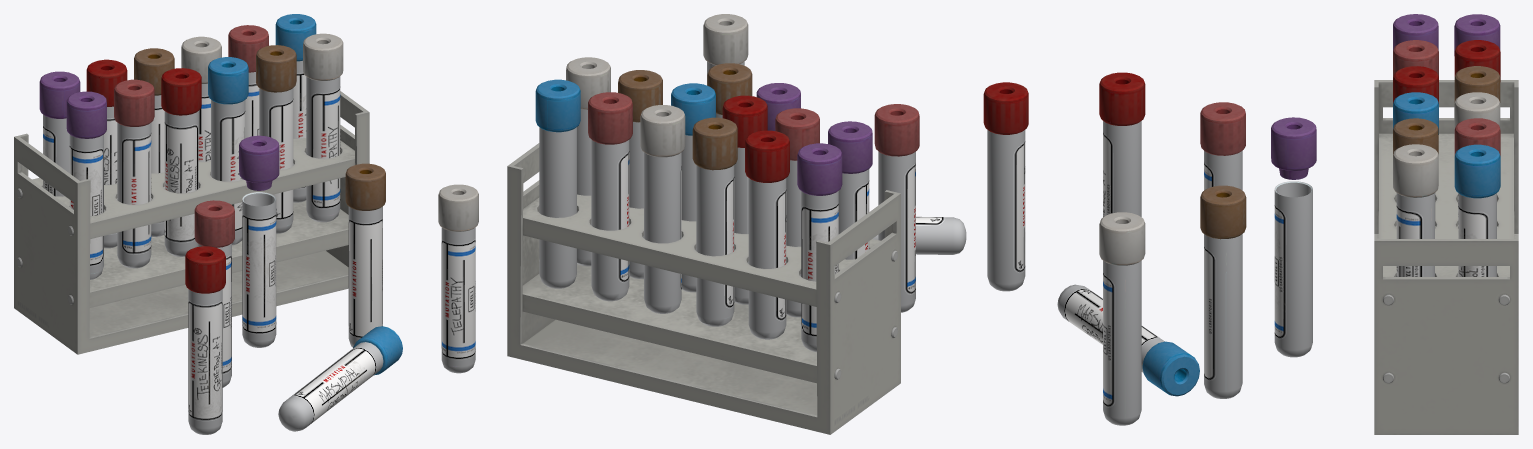
3 renders of one model, left to right at view 1: azimuth 30°, elevation 25°; view 2: azimuth 150°, elevation 25°; view 3: azimuth 270°, elevation 25°, orthographic. The views are drawn at different scales.
Visible parts, largest first — view 1: Rack_Rack_0, Phials_Racked_Phials_Named_0, Phials_Racked_Phials_Blank_0, Phial_Telepathy_Phials_Named_0, Phial_Telekinesis_Phials_Named_0, Phial_Blank_3_Phials_Blank_0, Phial_Blank_2_Phials_Blank_0, Phial_Marsupial_Phials_Named_0, Phial_Blank_1_Phials_Blank_0, Phial_Cap_Phials_Blank_0; view 2: Rack_Rack_0, Phials_Racked_Phials_Named_0, Phials_Racked_Phials_Blank_0, Phial_Telekinesis_Phials_Named_0, Phial_Blank_1_Phials_Blank_0, Phial_Telepathy_Phials_Named_0, Phial_Marsupial_Phials_Named_0, Phial_Blank_3_Phials_Blank_0, Phial_Cap_Phials_Blank_0; view 3: Rack_Rack_0, Phials_Racked_Phials_Named_0, Phial_Blank_3_Phials_Blank_0, Phial_Telepathy_Phials_Named_0, Phials_Racked_Phials_Blank_0, Phial_Blank_2_Phials_Blank_0, Phial_Telekinesis_Phials_Named_0, Phial_Marsupial_Phials_Named_0, Phial_Blank_1_Phials_Blank_0, Phial_Cap_Phials_Blank_0.
Boxes of the visible parts, x1,y1,x2,y2 form: Rack_Rack_0: [14, 91, 369, 354]; Phials_Racked_Phials_Named_0: [86, 14, 343, 256]; Phials_Racked_Phials_Blank_0: [39, 25, 296, 279]; Phial_Telepathy_Phials_Named_0: [438, 184, 478, 373]; Phial_Telekinesis_Phials_Named_0: [185, 246, 225, 434]; Phial_Blank_3_Phials_Blank_0: [345, 163, 385, 347]; Phial_Blank_2_Phials_Blank_0: [242, 192, 276, 347]; Phial_Marsupial_Phials_Named_0: [278, 326, 402, 431]; Phial_Blank_1_Phials_Blank_0: [194, 200, 234, 387]; Phial_Cap_Phials_Blank_0: [239, 135, 279, 190]; Rack_Rack_0: [507, 143, 900, 434]; Phials_Racked_Phials_Named_0: [535, 57, 789, 339]; Phials_Racked_Phials_Blank_0: [588, 70, 872, 352]; Phial_Telekinesis_Phials_Named_0: [983, 82, 1028, 291]; Phial_Blank_1_Phials_Blank_0: [874, 104, 919, 312]; Phial_Telepathy_Phials_Named_0: [703, 14, 748, 85]; Phial_Marsupial_Phials_Named_0: [873, 216, 966, 254]; Phial_Blank_3_Phials_Blank_0: [707, 63, 752, 118]; Phial_Cap_Phials_Blank_0: [756, 83, 800, 130]; Rack_Rack_0: [1374, 80, 1518, 434]; Phials_Racked_Phials_Named_0: [1393, 40, 1500, 276]; Phial_Blank_3_Phials_Blank_0: [1200, 185, 1246, 398]; Phial_Telepathy_Phials_Named_0: [1099, 212, 1145, 425]; Phials_Racked_Phials_Blank_0: [1393, 14, 1500, 155]; Phial_Blank_2_Phials_Blank_0: [1274, 181, 1312, 357]; Phial_Telekinesis_Phials_Named_0: [1099, 72, 1145, 216]; Phial_Marsupial_Phials_Named_0: [1057, 284, 1199, 396]; Phial_Blank_1_Phials_Blank_0: [1200, 102, 1245, 190]; Phial_Cap_Phials_Blank_0: [1271, 117, 1316, 179].
Bounding box in the file's own units: 1.42 × 1.09 × 1.7.
